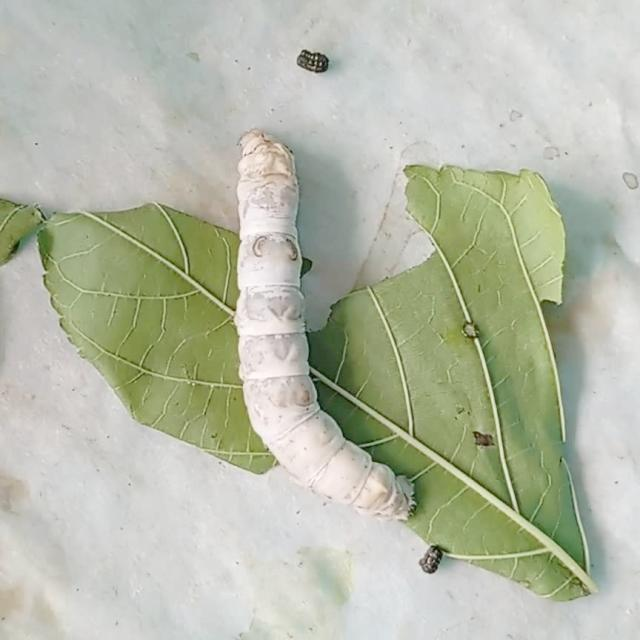Grasserie: (191, 99, 424, 533)
